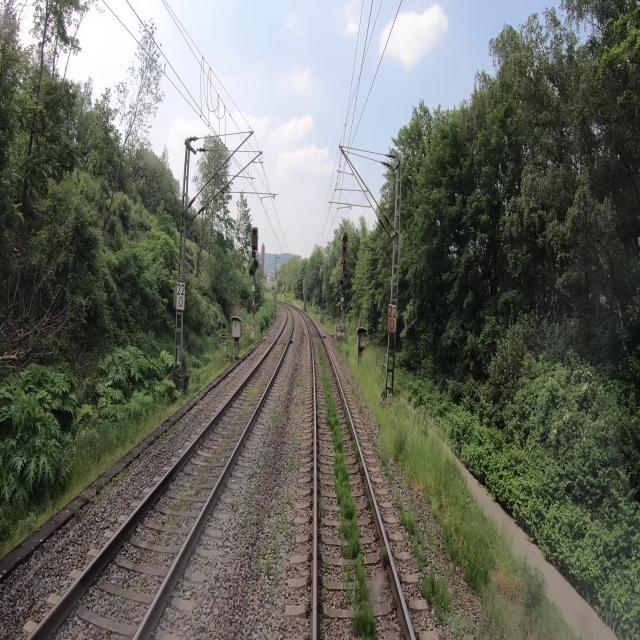Plant: (316, 342, 380, 639), (333, 338, 412, 487), (421, 562, 462, 639), (159, 467, 207, 532), (396, 495, 427, 571), (253, 535, 284, 605), (91, 468, 128, 502), (422, 517, 441, 557), (275, 515, 297, 548), (248, 374, 265, 406), (351, 384, 364, 416), (380, 546, 388, 570), (287, 449, 294, 471), (259, 509, 266, 526), (288, 491, 293, 508)
